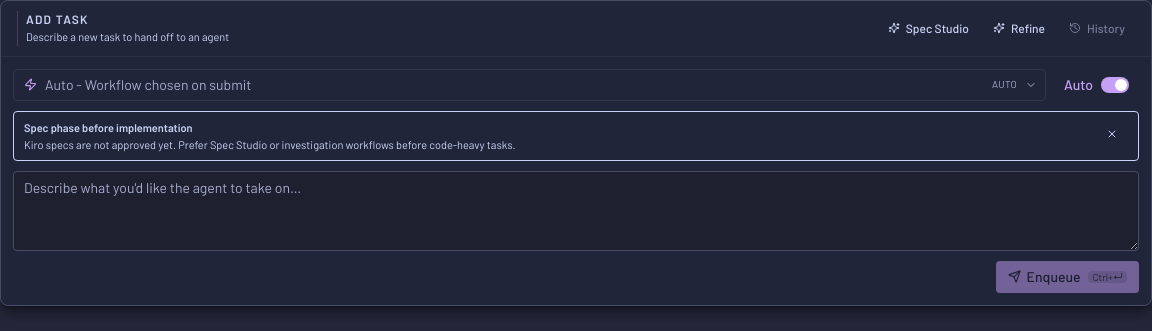
Test: PromptComposer spec studio guide › dismisses callout and persists to localStorage
Click the button named "Dismiss" at (1112, 134), box [1096, 120, 1128, 148]
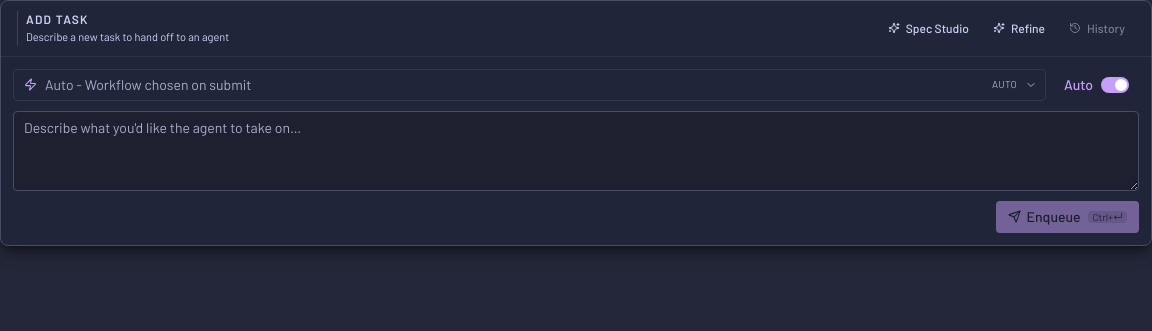
Now the text "Spec phase before implementation" is gone
